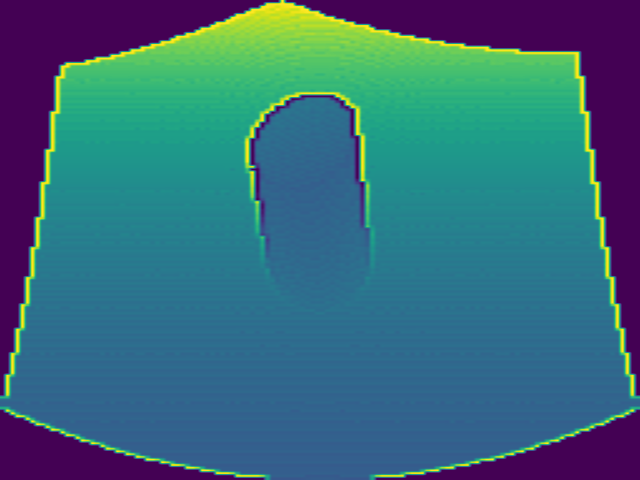cylinder: (244, 91, 375, 307)
